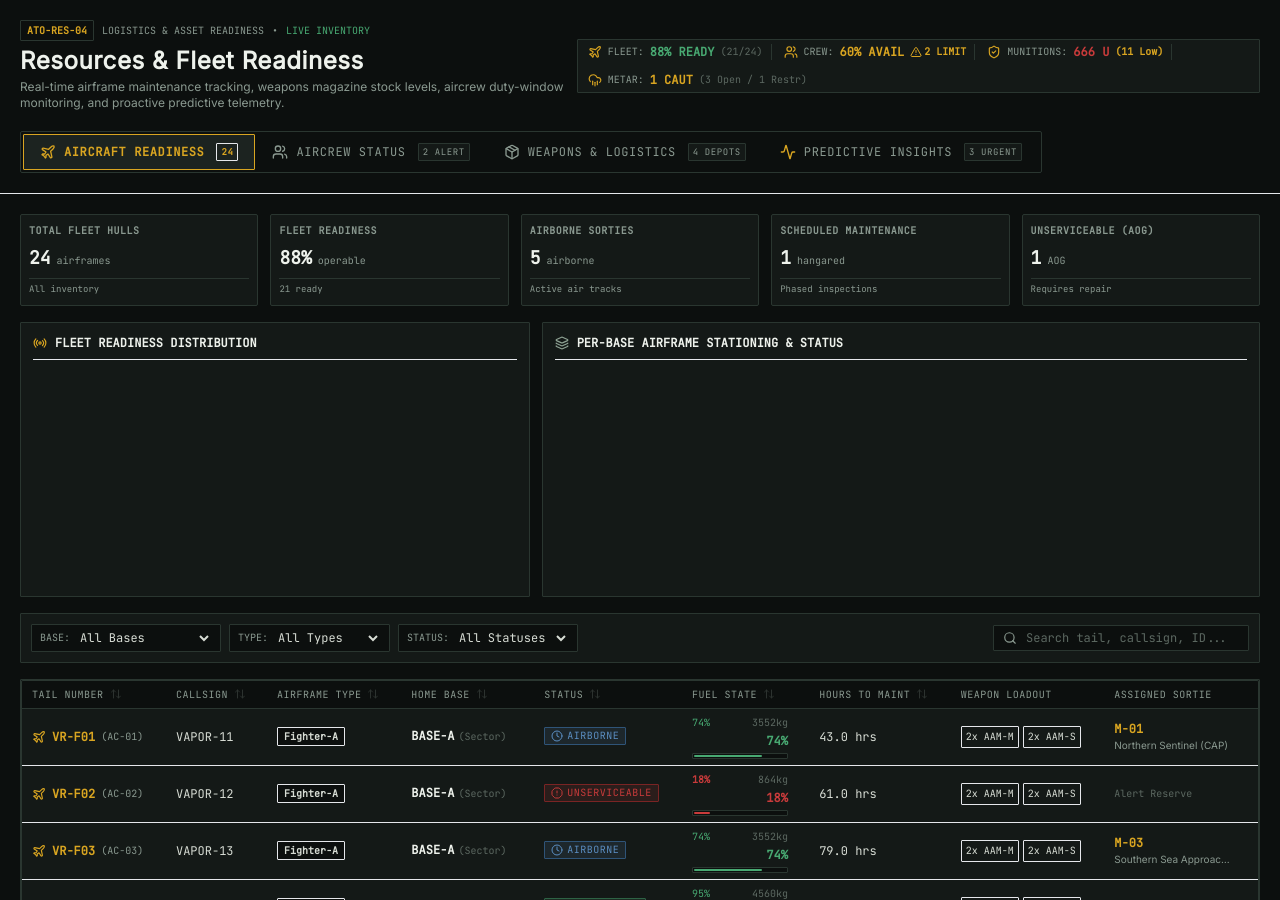
Test: ResourcesPage (Resource Readiness Views & Logistics) › opens aircraft detail drawer on row click and shows maintenance forecast
Expected: the text "VR-F01" is shown, x1=52 y1=728 x2=95 y2=744
What coordinates should you click on to do the following:
click the text "VR-F01"
I would click on:
 (74, 736)
Its box is x1=22 y1=708 x2=1258 y2=765.
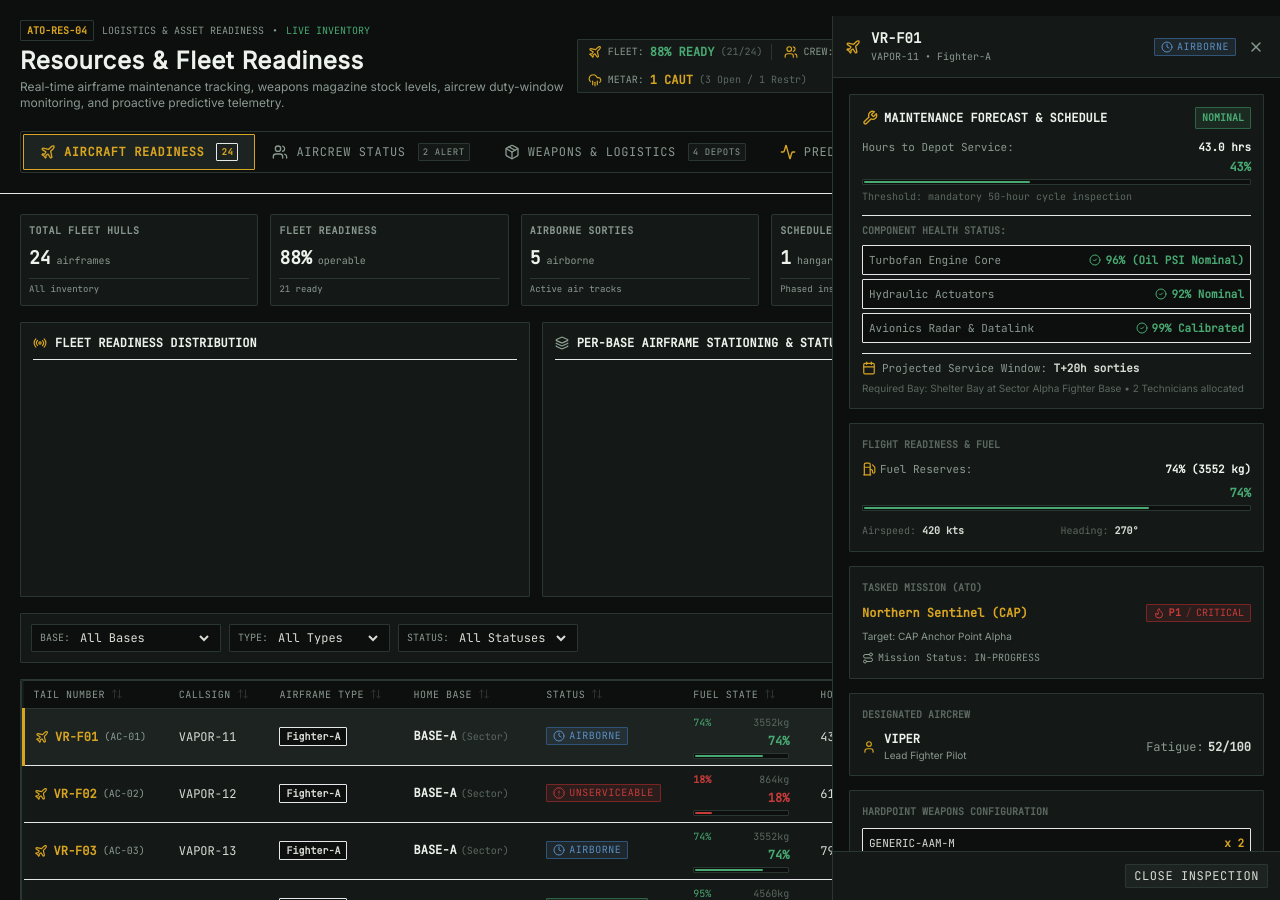
Expected: the element with test id "aircraft-detail-drawer" is shown, x1=832 y1=16 x2=1279 y2=899
Expected: the text "MAINTENANCE FORECAST & SCHEDULE" is shown, x1=884 y1=110 x2=1107 y2=126
Expected: the text "Turbofan Engine Core" is shown, x1=869 y1=252 x2=1001 y2=268
// Close the drawer
What coordinates should you click on to do the following:
click the button named "Close drawer"
I would click on:
 (1256, 46)
Its box is x1=1244 y1=34 x2=1268 y2=58.
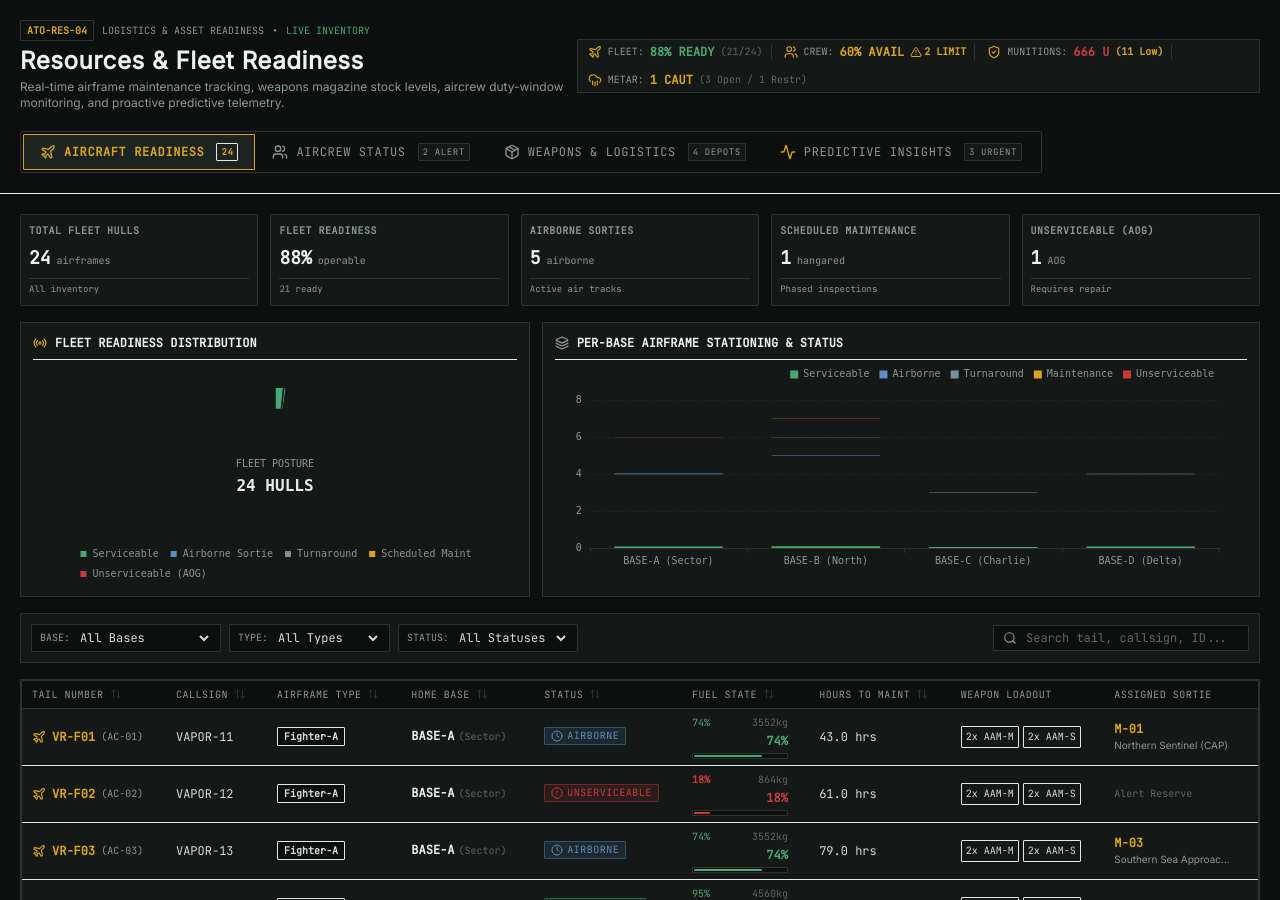
Expected: the element with test id "aircraft-detail-drawer" is gone
